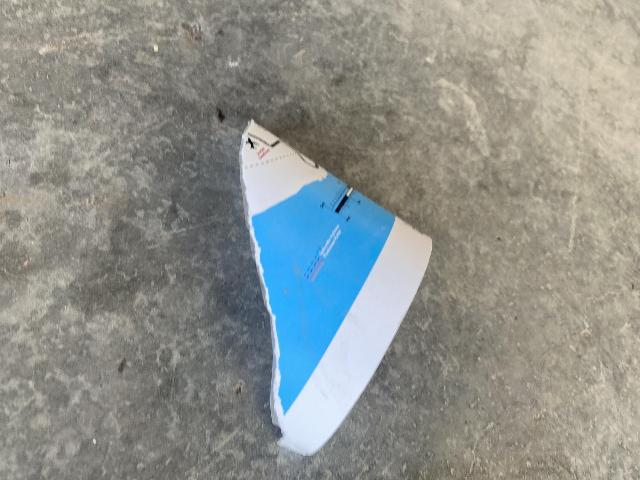Kagit: (240, 119, 434, 457)
